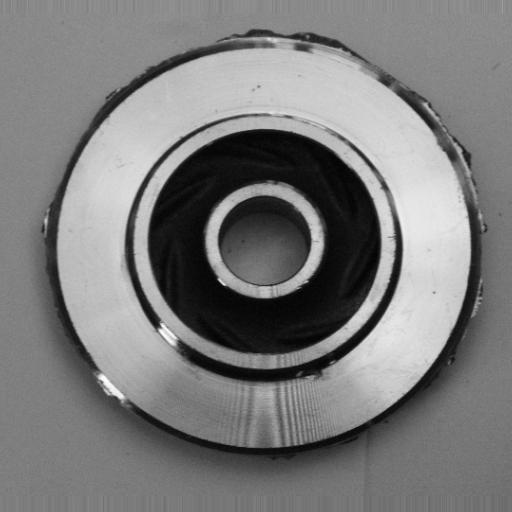casting_with_burr: (34, 26, 493, 463)
crack: (287, 351, 353, 392)
scratch: (135, 309, 195, 369), (252, 105, 352, 140)
